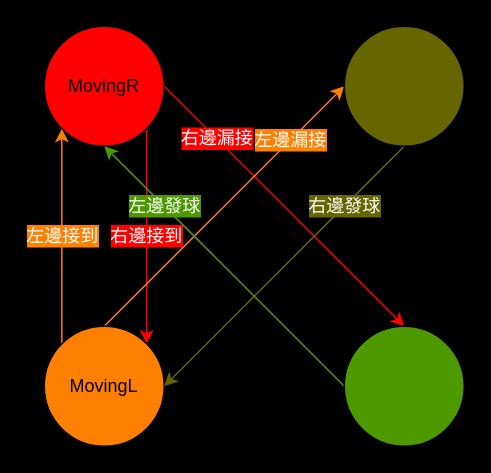
This 491x473 diagram has some shape labels left out. The shapes that lost their labels are listed below. From the top down, each one's box as (x1, y1, x2, y2) in pixels, then its label:
(343, 25, 464, 146): Rwin
(343, 325, 464, 446): Lwin
